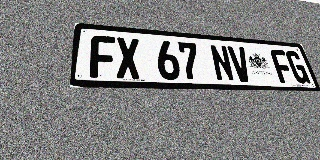6: (155, 40, 181, 80)
7: (176, 42, 203, 81)
F: (90, 35, 116, 78), (269, 49, 296, 83)
G: (284, 50, 311, 84)
N: (209, 44, 235, 82)
V: (227, 46, 254, 82)
X: (116, 37, 141, 79)
